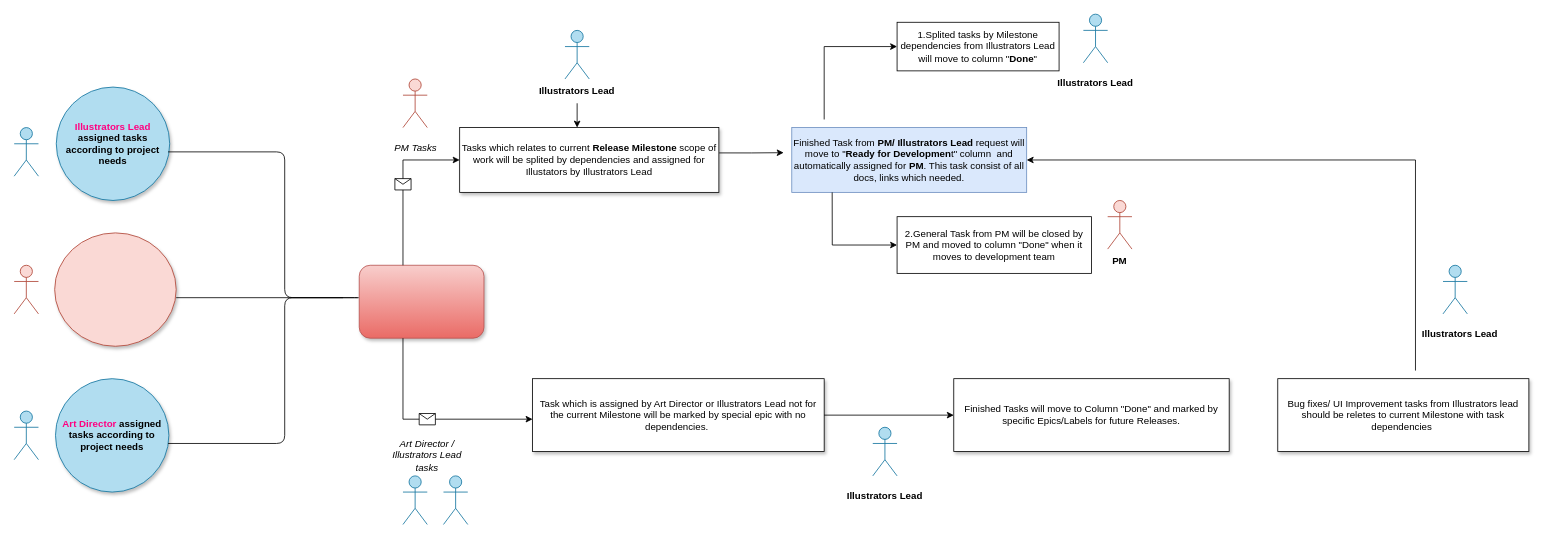
Image size: 1548x539. Some labels were removed from this diagram. Here are the shapes that lost their labels. From the top down, the centre of each, then its label:
the point at 116,290: PM assigned tasks to Illustrators (ASANA) according to current Milestone
the point at 422,302: Asana(Illustrators)
